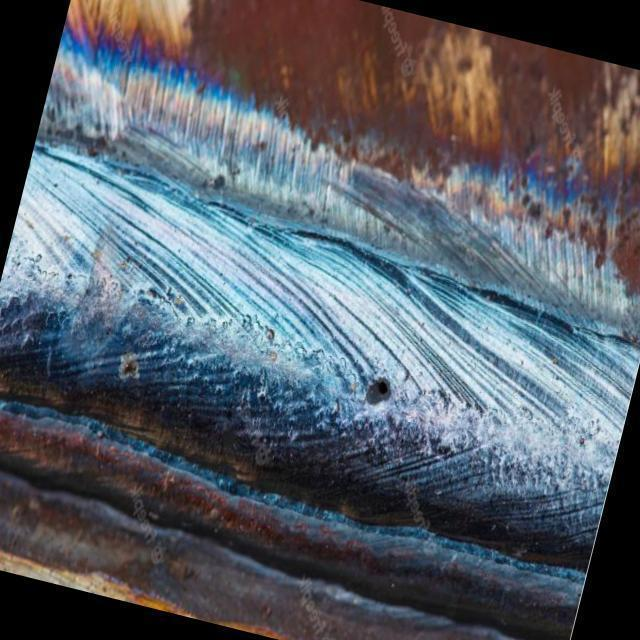defect: (358, 372, 399, 412)
